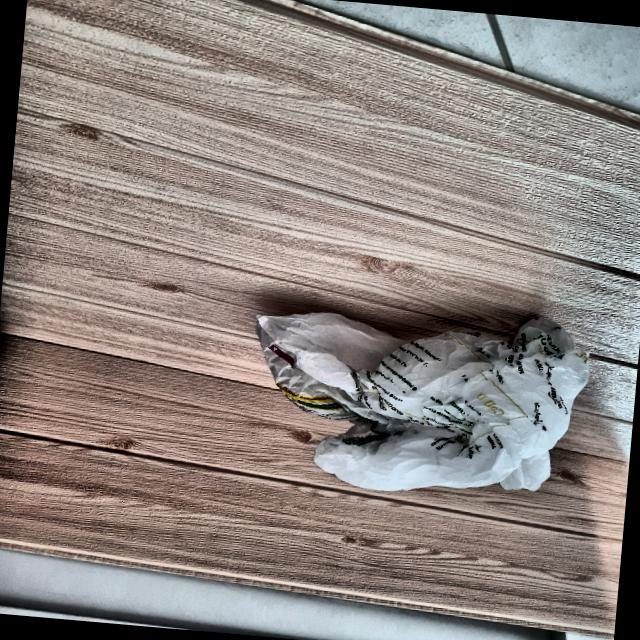plastic bag: (237, 273, 615, 516)
